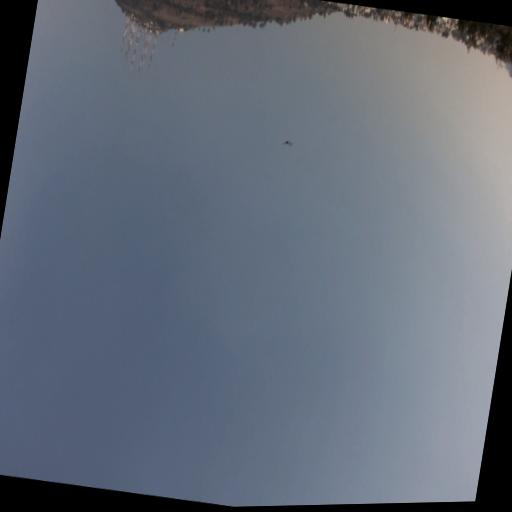drones: (280, 137, 294, 148)
